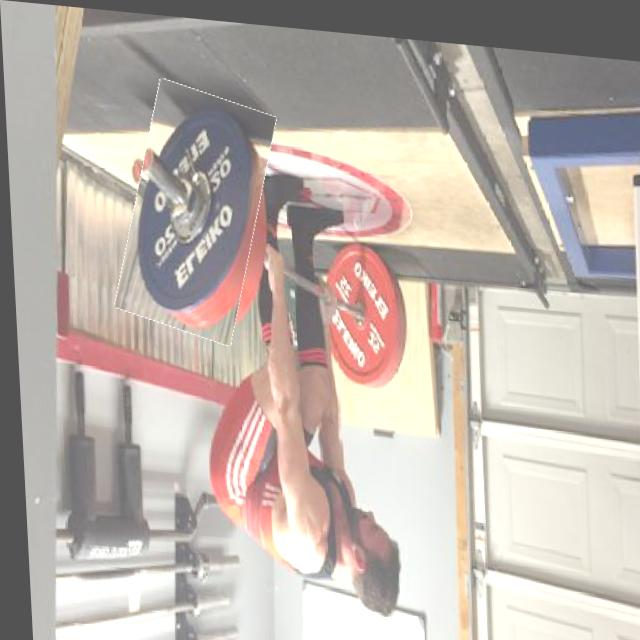barbell: (117, 77, 273, 341)
